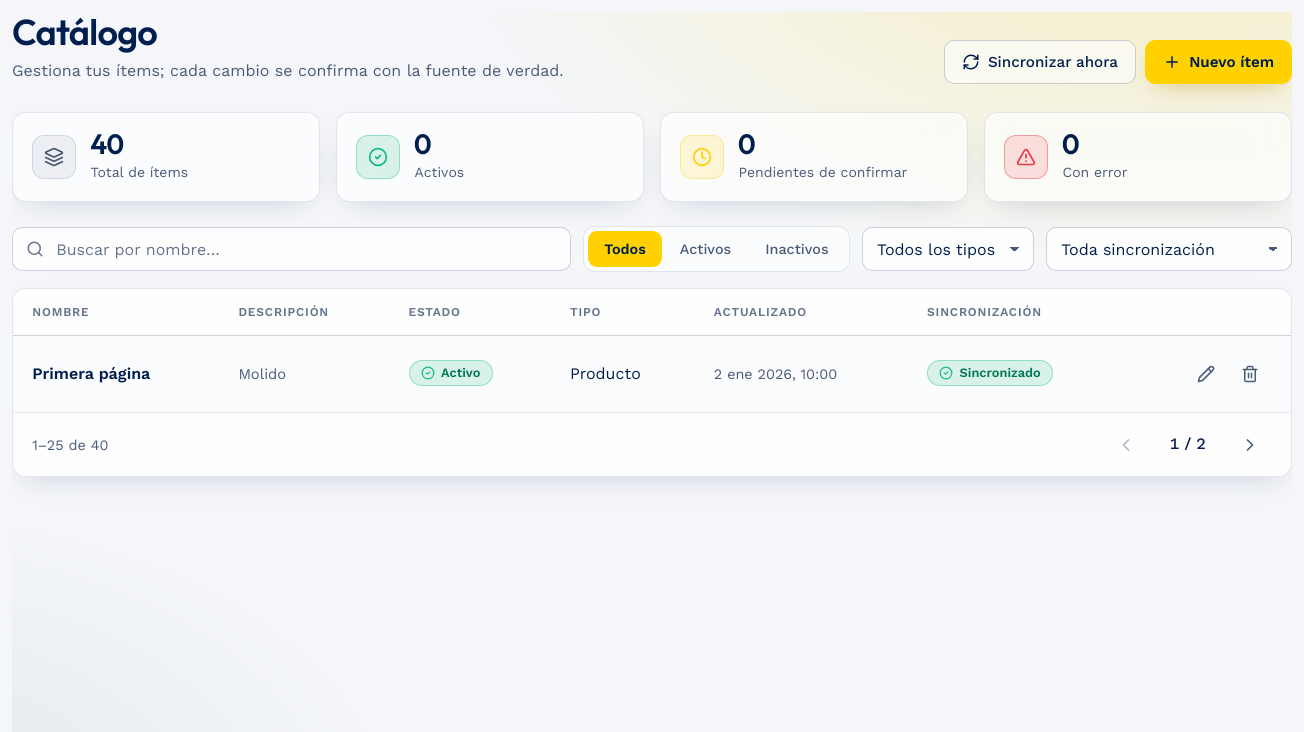
Test: CatalogoList › pagina con el servidor: "siguiente" pide la página 1
The image size is (1304, 732).
Expected: the text "Primera página" is shown, [13,336,219,412]
Expected: the text "1–25 de 40" is shown, [32,434,108,456]
Click the button named "Página siguiente". click: (1250, 445)
box: [1228,423,1272,467]
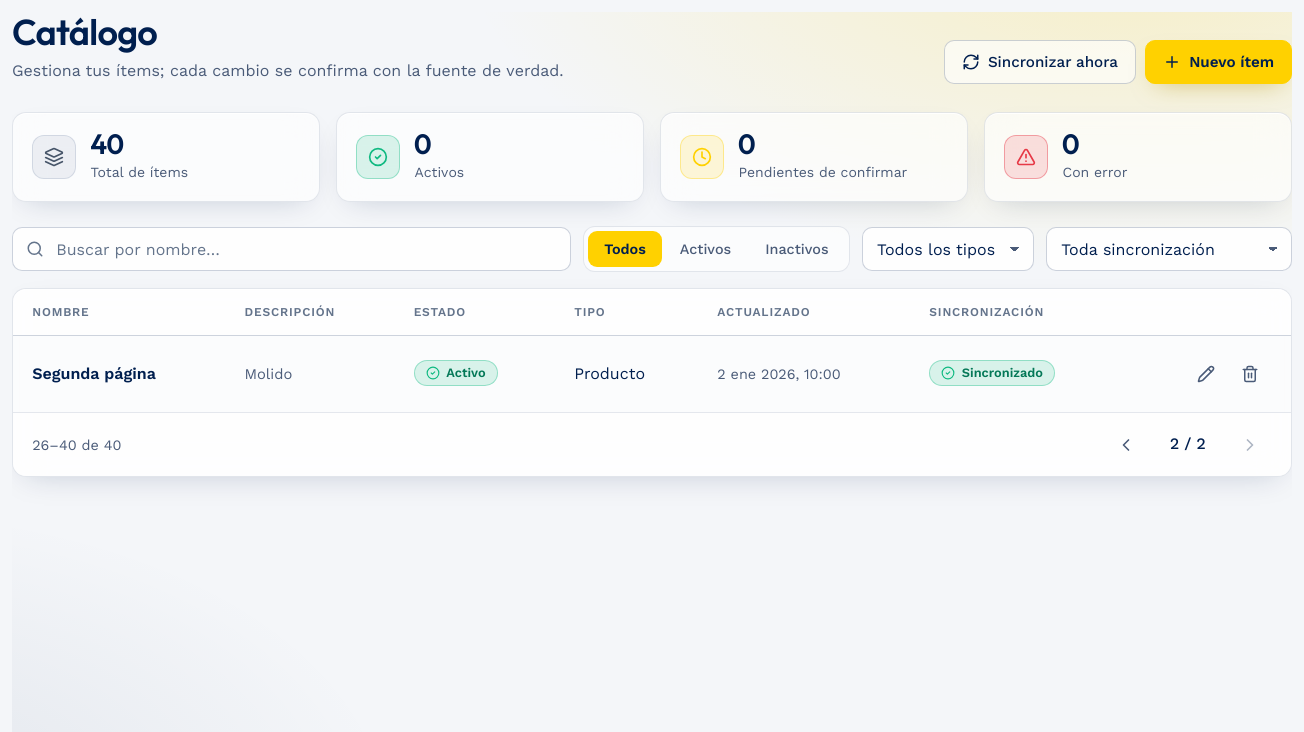
Now the text "Segunda página" is shown, box [13,336,225,412]
